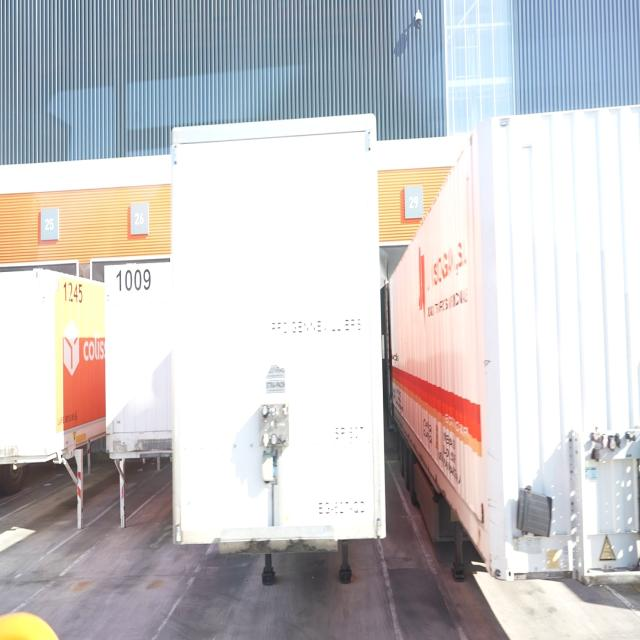Code: (114, 262, 154, 296), (61, 274, 86, 308)
